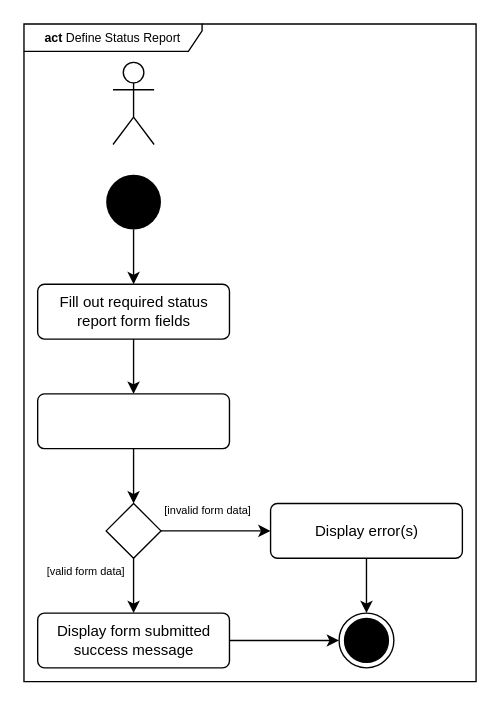
Image size: 500x706. Some labels were removed from this diagram. The shapes that lost their labels are listed below. From the top down, each one's box as (x1, y1, x2, y2) in pixels, then its label:
(112, 61, 154, 145): Doctor
(36, 393, 229, 449): Click submit
